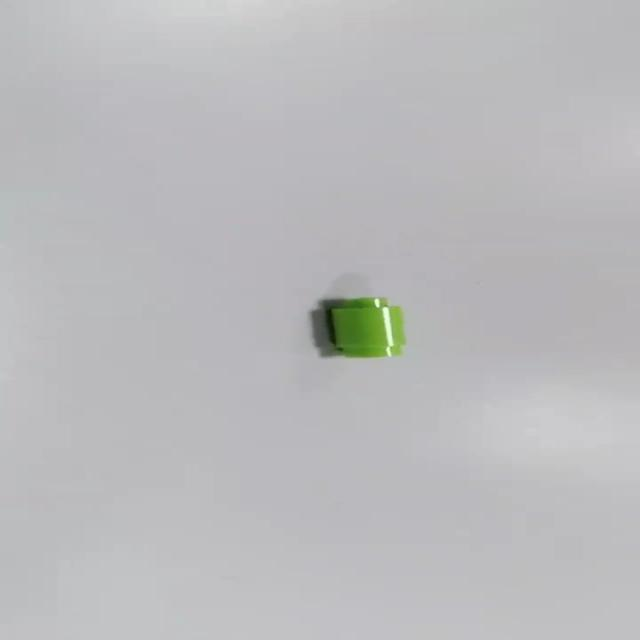S1x1x1: (320, 294, 410, 357)
